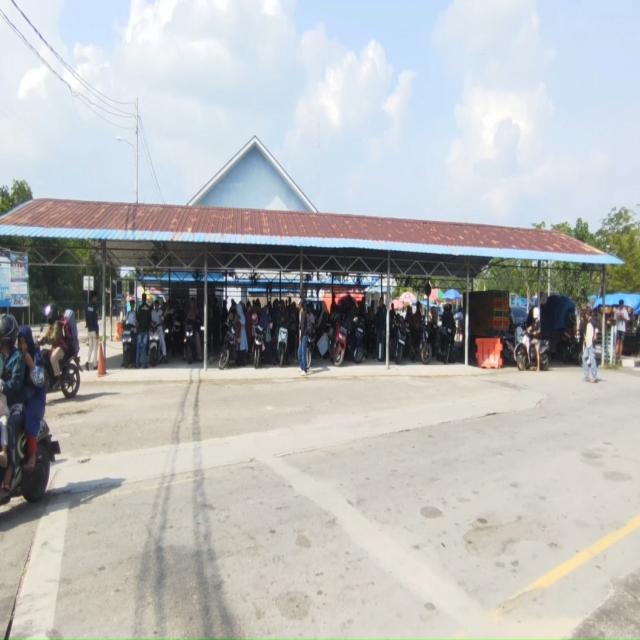Golongan II: (0, 420, 61, 503), (42, 349, 80, 399), (514, 326, 550, 371), (554, 334, 583, 366), (218, 324, 236, 369), (333, 314, 348, 366), (350, 319, 366, 364), (394, 314, 408, 365), (148, 323, 164, 367), (183, 320, 198, 364), (122, 324, 136, 368), (438, 326, 454, 364), (170, 315, 184, 358), (419, 322, 432, 364), (253, 324, 265, 368), (277, 326, 289, 367), (306, 330, 318, 369)
